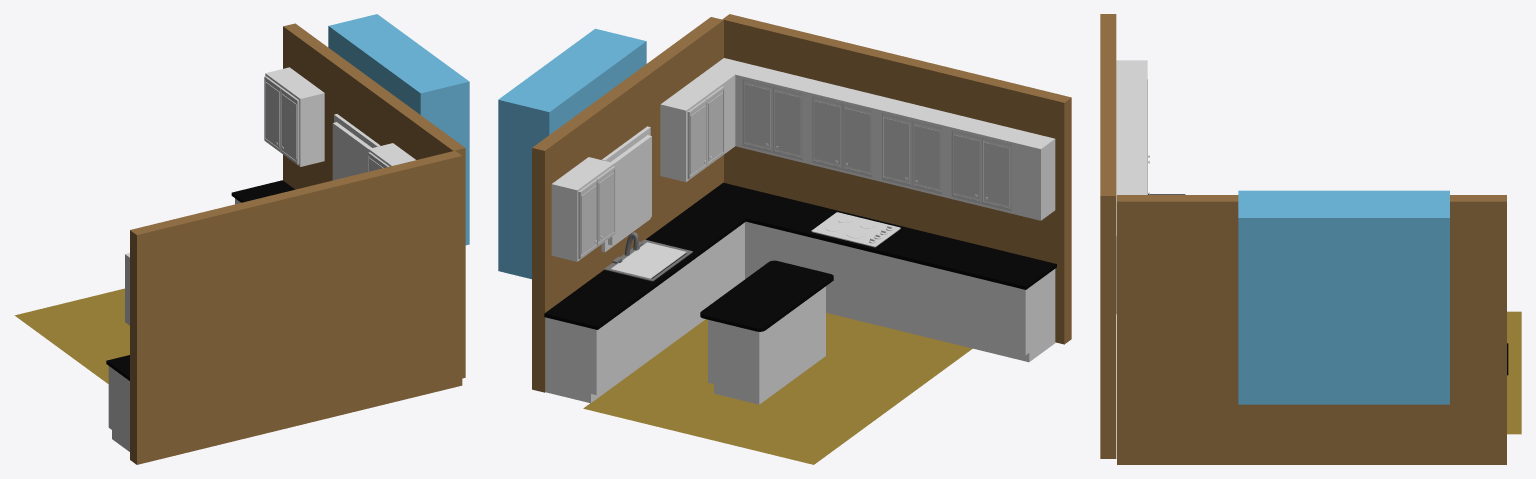
Rendered from Kitchen Ver02.fbx.
The picture shows the model from 3 angles, left to right: view 1: azimuth 30°, elevation 25°; view 2: azimuth 150°, elevation 25°; view 3: azimuth 270°, elevation 25°; orthographic projection. The views are drawn at different scales.
Visible parts, largest first — view 1: Cube.012, Cube.011, Cube.054, Plane, Cube.013, Cube.014, Cube.003, Cube.023, Cube.022, Cube.004, Cube.015; view 2: Cube.012, Plane, Cube.011, Cube.003, Cube.016, Cube.002, Cube.054, Cube.004, Cube.005, Cube, Cube.001, Cube.015 (+18 smaller); view 3: Cube.011, Cube.054, Cube.012, Cube.016, Plane.
Part boxes in pixels (x1,y1,x2,y2): Cube.012: [130, 151, 462, 464]; Cube.011: [283, 23, 465, 378]; Cube.054: [328, 14, 469, 245]; Plane: [14, 288, 129, 383]; Cube.013: [265, 67, 324, 166]; Cube.014: [332, 122, 371, 180]; Cube.003: [108, 366, 129, 451]; Cube.023: [281, 88, 299, 164]; Cube.022: [264, 76, 282, 152]; Cube.004: [231, 180, 294, 202]; Cube.015: [368, 143, 415, 166]; Cube.012: [722, 14, 1071, 344]; Plane: [583, 313, 972, 464]; Cube.011: [532, 17, 723, 392]; Cube.003: [745, 221, 1055, 362]; Cube.016: [735, 64, 1055, 220]; Cube.002: [545, 222, 744, 403]; Cube.054: [498, 28, 646, 279]; Cube.004: [544, 182, 776, 329]; Cube.005: [746, 196, 1056, 289]; Cube: [708, 286, 825, 404]; Cube.001: [700, 260, 833, 331]; Cube.015: [660, 58, 749, 181]; Cube.011: [1117, 195, 1506, 464]; Cube.054: [1238, 190, 1449, 404]; Cube.012: [1100, 14, 1116, 458]; Cube.016: [1116, 60, 1147, 314]; Plane: [1507, 311, 1521, 434].
Size of the model in its own units: 4908 by 3211 by 3978.
